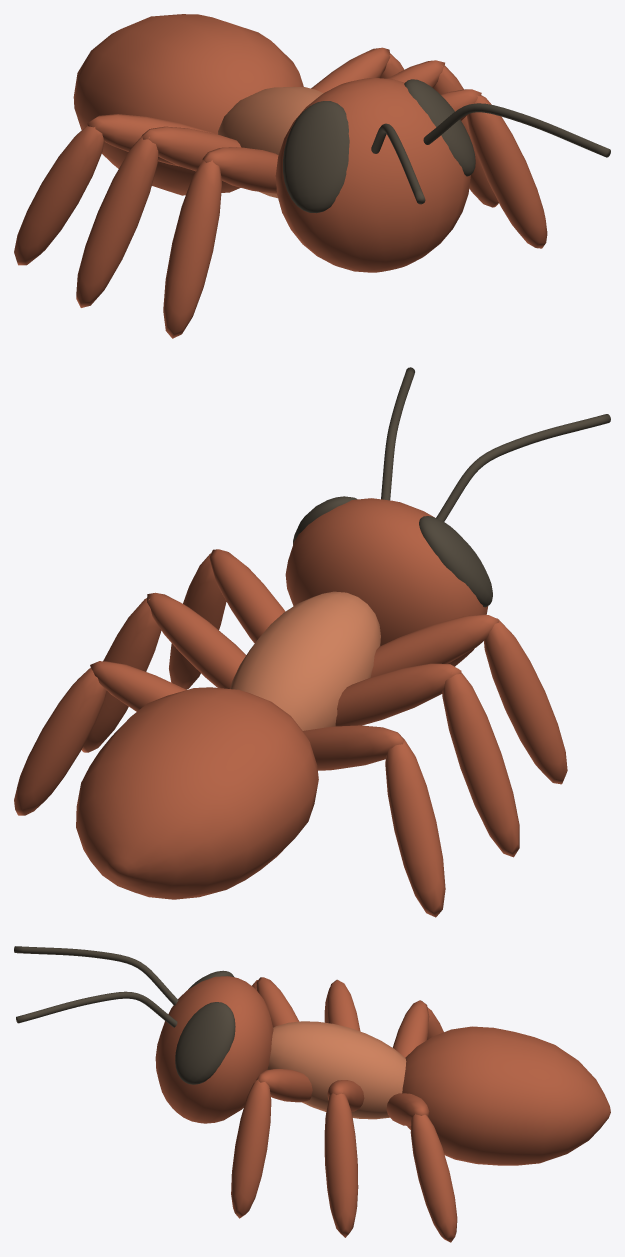
File: Ant.fbx
3 views of the same model, one above another, from view 1: azimuth 30°, elevation 25°; view 2: azimuth 150°, elevation 25°; view 3: azimuth 270°, elevation 25° (orthographic). The views are drawn at different scales.
Parts seen in each view (by area): view 1: Ant; view 2: Ant; view 3: Ant.
Boxes of the visible parts, x1,y1,x2,y2 form: Ant: (14,14,610,338); Ant: (14,367,610,917); Ant: (14,946,610,1242).
Size of the model in its own units: 527 by 305 by 839.
